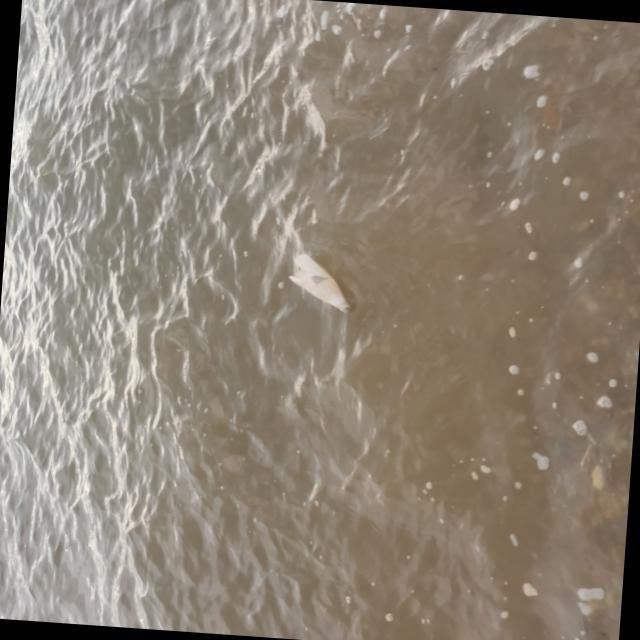plastic bottle: (284, 252, 354, 317)
